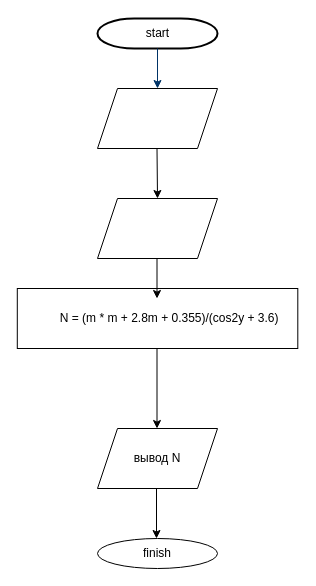
Image size: 316x586. Some labels were removed from this diagram. The shapes that lost their labels are listed below. From the top down, each one's box as (x1, y1, x2, y2) in pixels, then its label:
(96, 88, 218, 148): ввод m
(96, 198, 218, 258): ввод y
